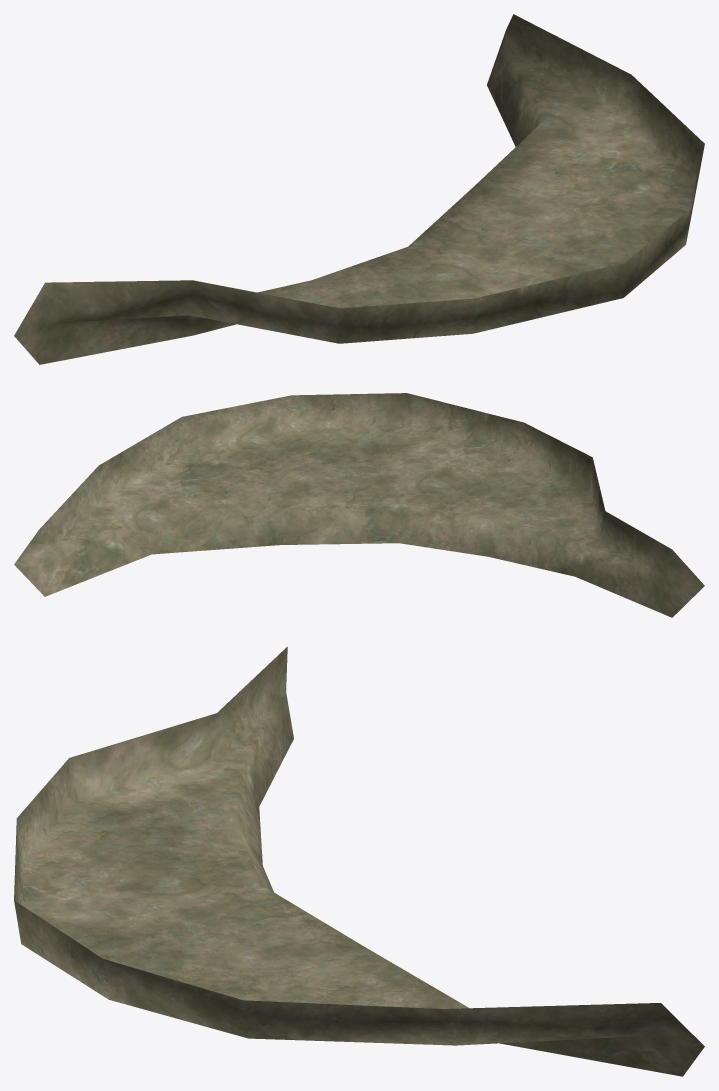
The model's file is EKH_THRONE_PS_TH_LINE29.fbx.
The picture shows the model from 3 angles, top to bottom: view 1: azimuth 30°, elevation 25°; view 2: azimuth 150°, elevation 25°; view 3: azimuth 270°, elevation 25°; orthographic projection. The views are drawn at different scales.
Visible parts, largest first — view 1: EKH_THRONE_PS_TH_LINE29; view 2: EKH_THRONE_PS_TH_LINE29; view 3: EKH_THRONE_PS_TH_LINE29.
Boxes of the visible parts, box(x1,y1,x2,y2) form: EKH_THRONE_PS_TH_LINE29: box(14, 14, 704, 364); EKH_THRONE_PS_TH_LINE29: box(14, 393, 704, 617); EKH_THRONE_PS_TH_LINE29: box(14, 646, 704, 1076).
Size of the model in its own units: 60996 by 7052 by 46959.
Materials: 1 (1 with a texture image).
